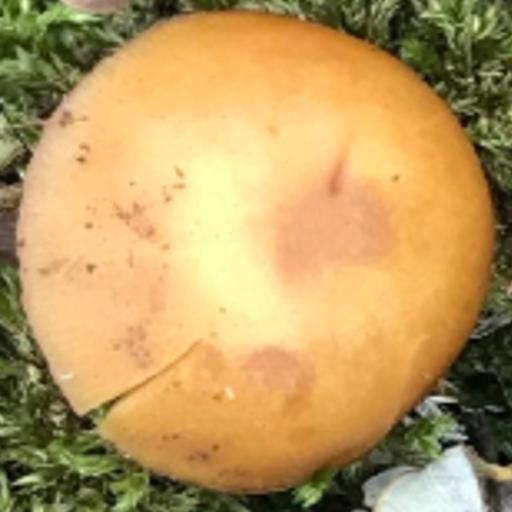mushroom: (29, 10, 493, 490)
